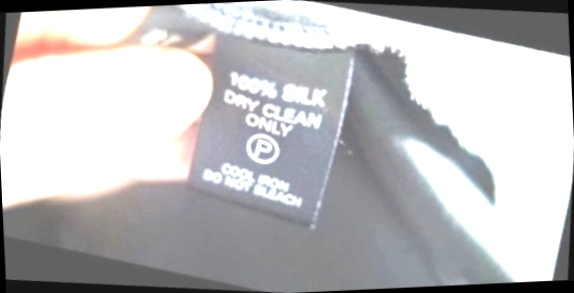dry_clean_any_solvent_except_trichloroethylene: (236, 121, 292, 175)
